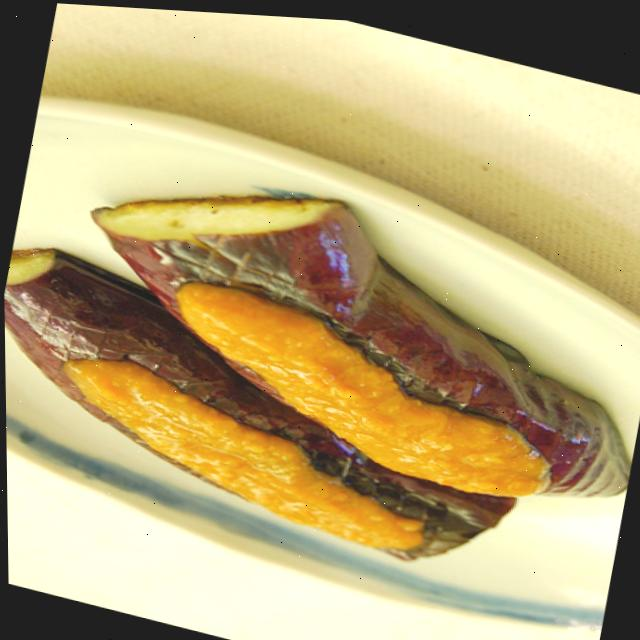鸡蛋料理: (1, 109, 640, 610)
